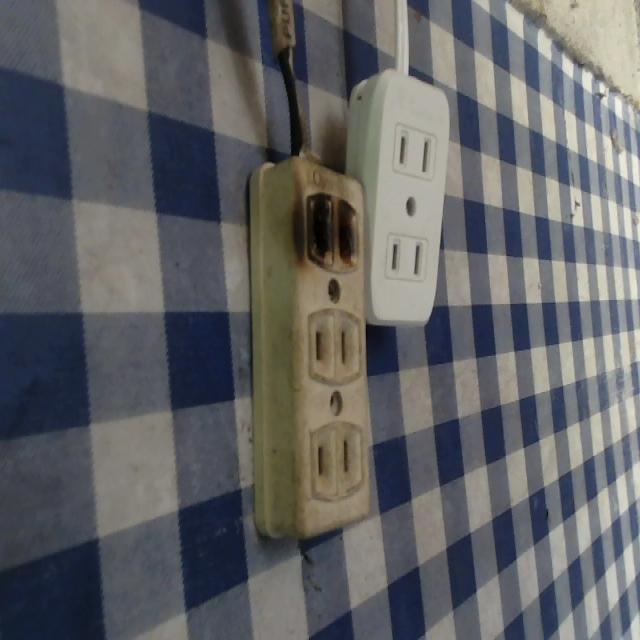-: (298, 182, 366, 274)
